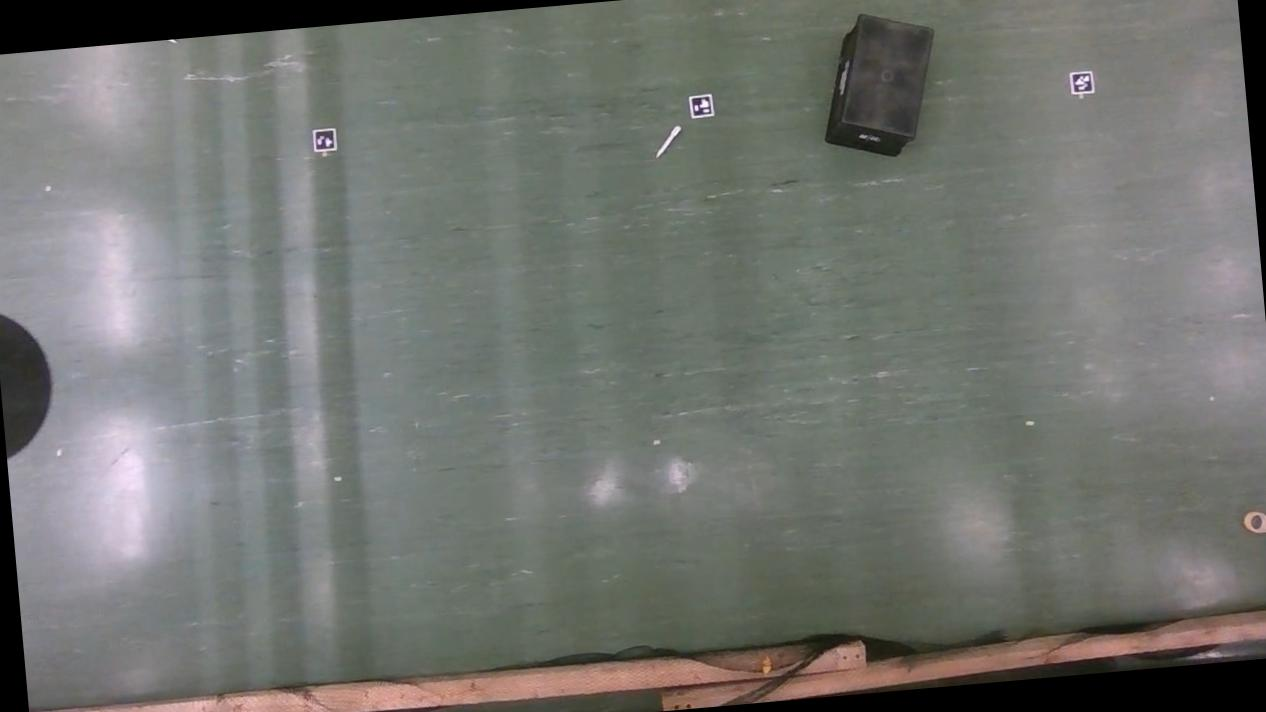probes: (654, 125, 683, 158)
rako: (814, 9, 944, 164)
